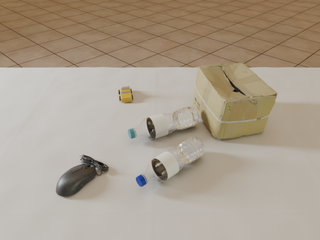bottle: (136, 137, 204, 187), (128, 106, 199, 139)
box: (192, 63, 277, 139)
mouse: (56, 154, 109, 196)
toy_car: (118, 86, 133, 102)
